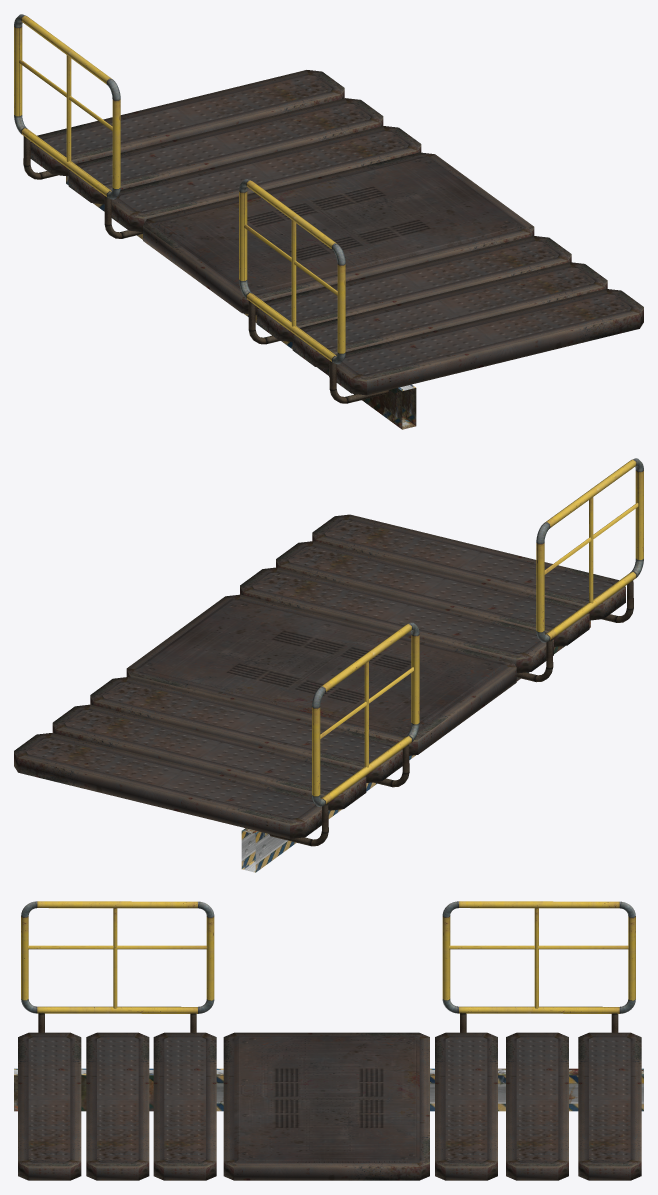
The model's file is FLO_Walkway_Open_5m.FBX.
3 views of the same model, one above another, from view 1: azimuth 30°, elevation 25°; view 2: azimuth 150°, elevation 25°; view 3: azimuth 270°, elevation 25° (orthographic). The views are drawn at different scales.
Parts seen in each view (by area): view 1: FLO_Walkway_Open_5m_Plates, FLO_Walkway_Open_5m_Banister; view 2: FLO_Walkway_Open_5m_Plates, FLO_Walkway_Open_5m_Banister; view 3: FLO_Walkway_Open_5m_Plates, FLO_Walkway_Open_5m_Banister.
Part boxes in pixels (left/top/right/bottom): FLO_Walkway_Open_5m_Plates: left=30, top=70, right=643, bottom=429; FLO_Walkway_Open_5m_Banister: left=14, top=14, right=388, bottom=403; FLO_Walkway_Open_5m_Plates: left=14, top=514, right=625, bottom=872; FLO_Walkway_Open_5m_Banister: left=269, top=458, right=643, bottom=846; FLO_Walkway_Open_5m_Plates: left=14, top=1032, right=643, bottom=1180; FLO_Walkway_Open_5m_Banister: left=21, top=901, right=635, bottom=1032.
Bounding box in the file's own units: 263 × 156 × 498.
Materials: 2 (2 with a texture image).
